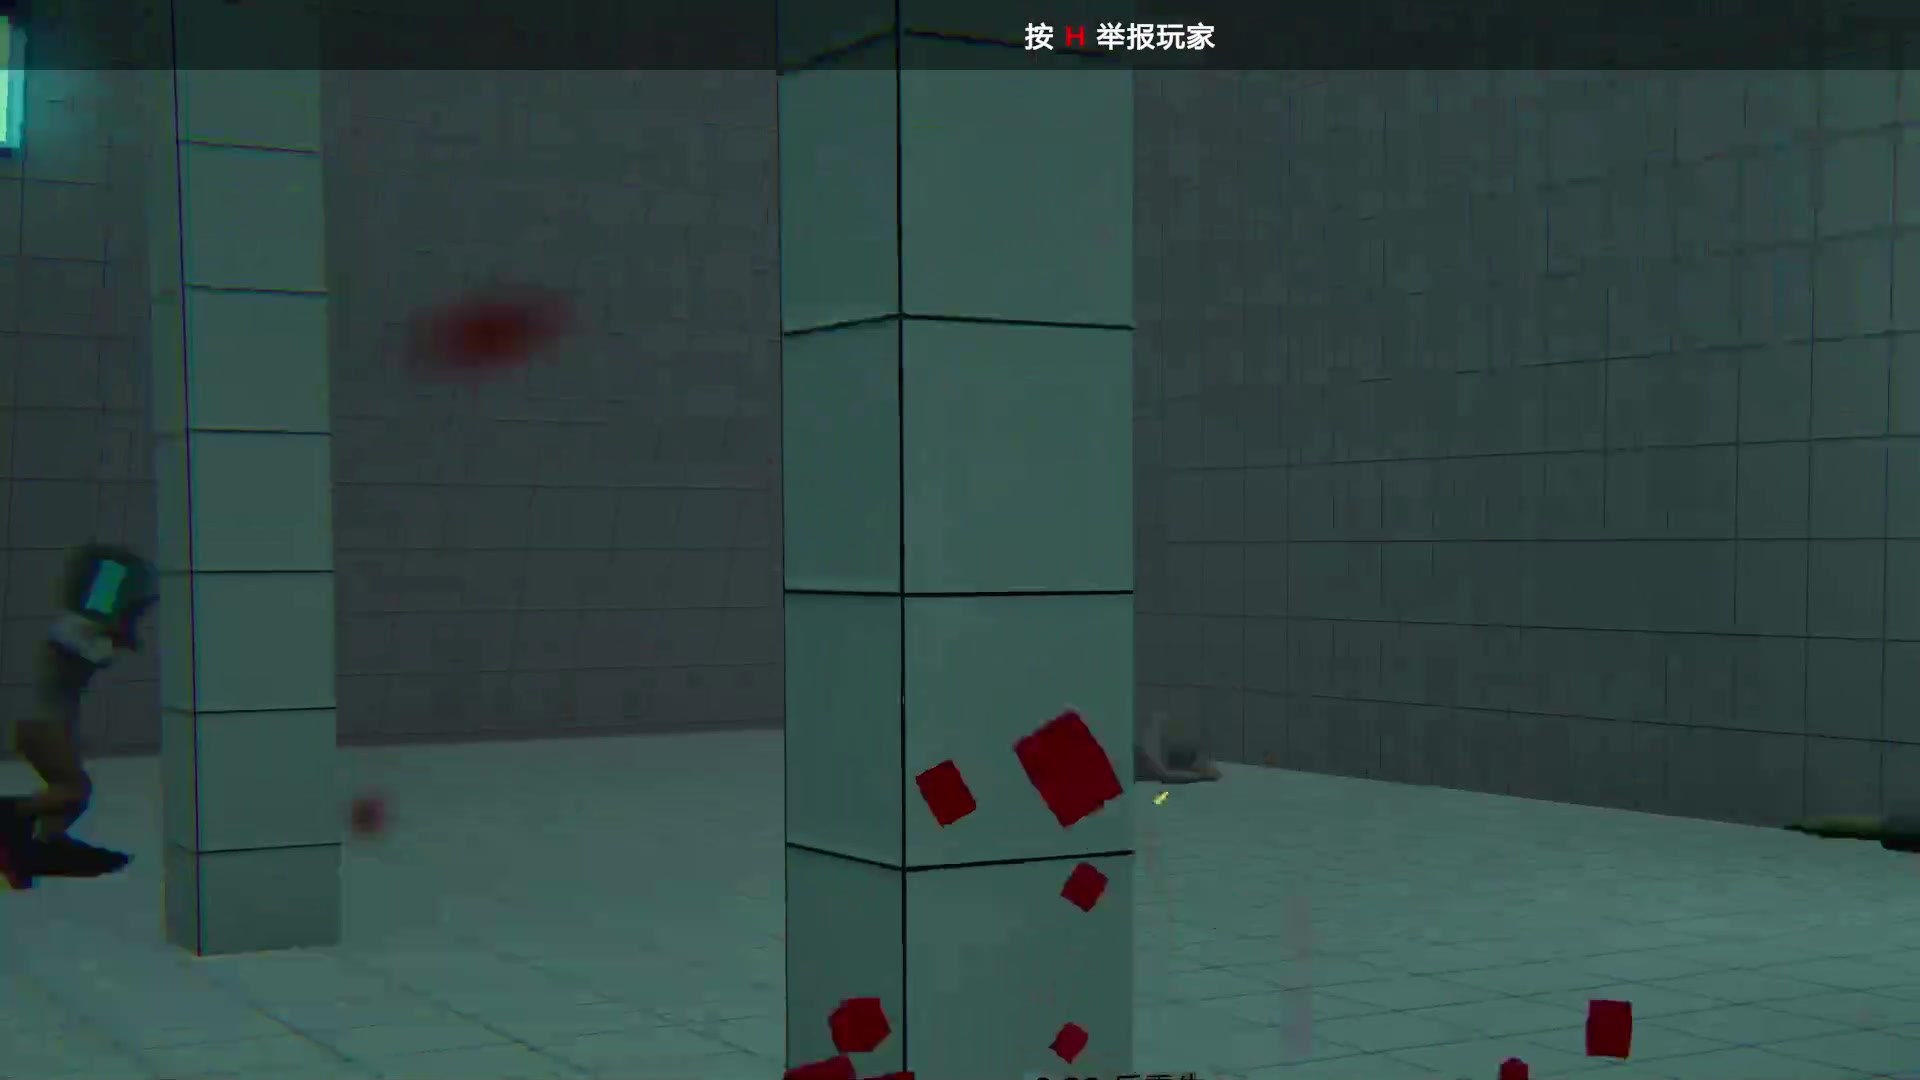human: (26, 545, 133, 885)
